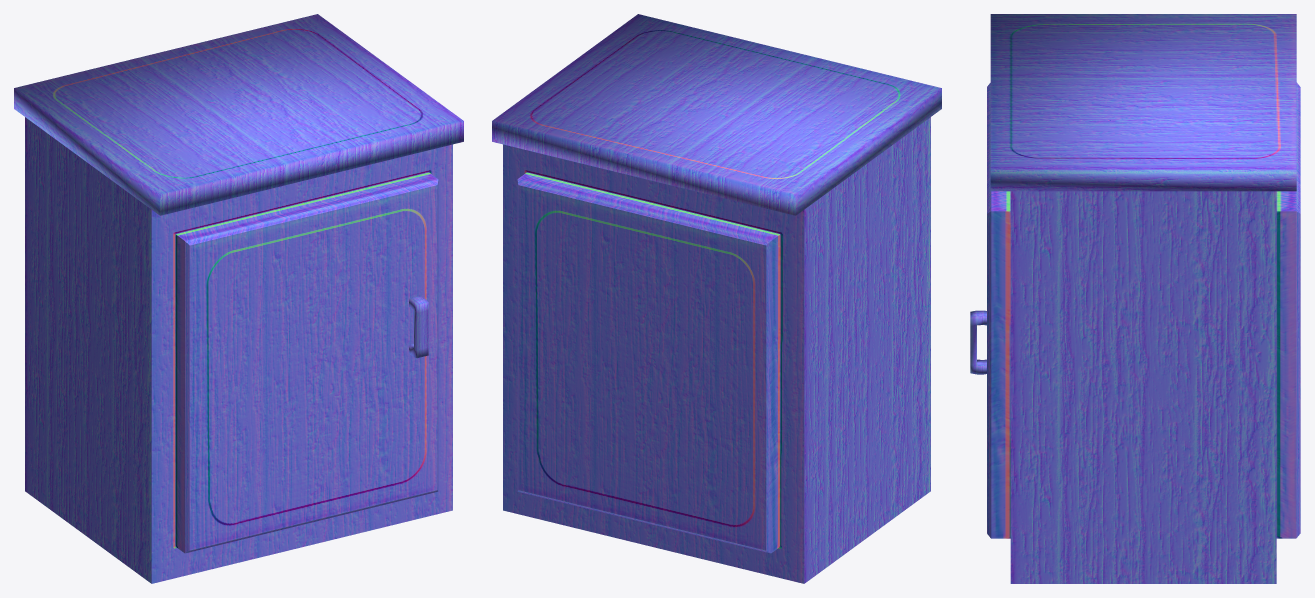
File: Sark_8.FBX
The picture shows the model from 3 angles, left to right: view 1: azimuth 30°, elevation 25°; view 2: azimuth 150°, elevation 25°; view 3: azimuth 270°, elevation 25°; orthographic projection. The views are drawn at different scales.
Parts seen in each view (by area): view 1: Sark_8; view 2: Sark_8; view 3: Sark_8.
Part boxes in pixels (<box>): Sark_8: <box>14,14,463,583</box>; Sark_8: <box>492,14,941,583</box>; Sark_8: <box>970,14,1300,583</box>.
Size of the model in its own units: 0.7043 by 0.8782 by 0.6324.
